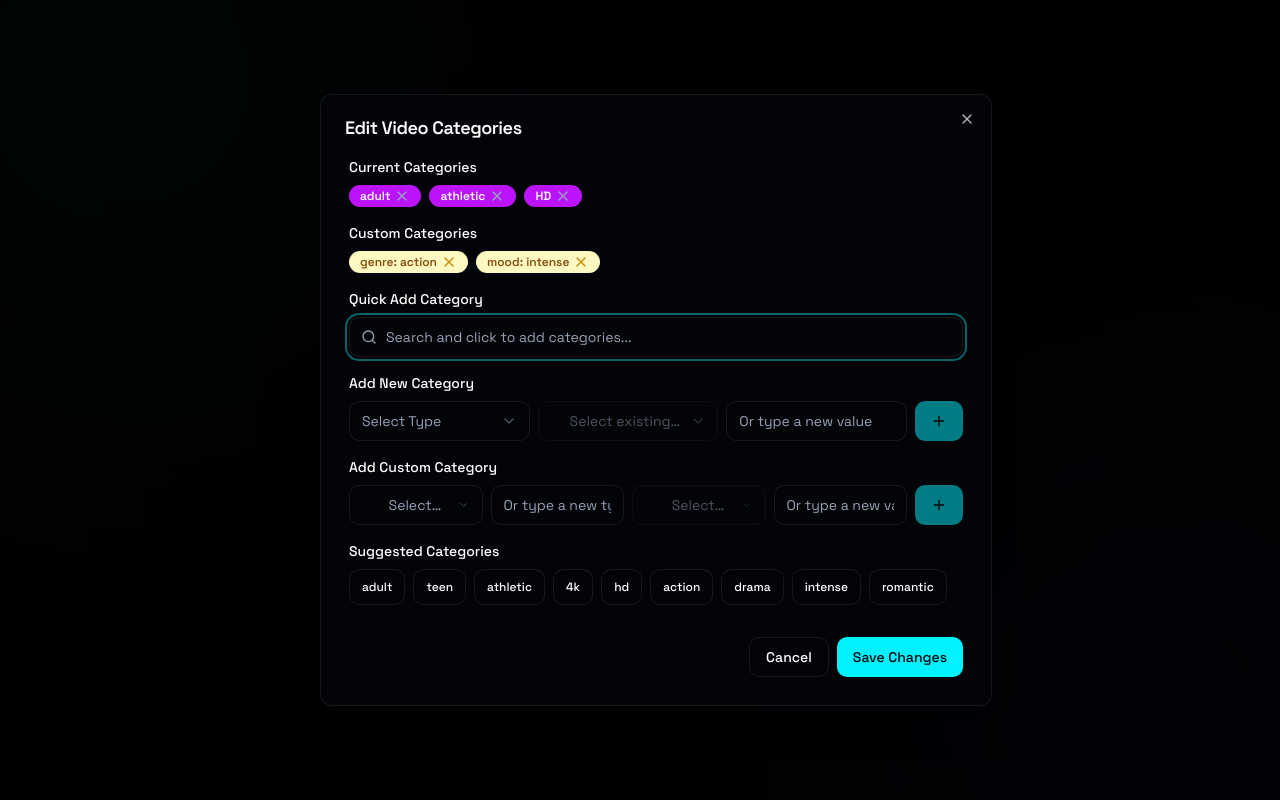
Test case: EditTagsModal › allows adding new custom categories via input
Type "theme" into the field with test id "input-custom-type". click: (557, 505)
box: [490, 485, 624, 525]
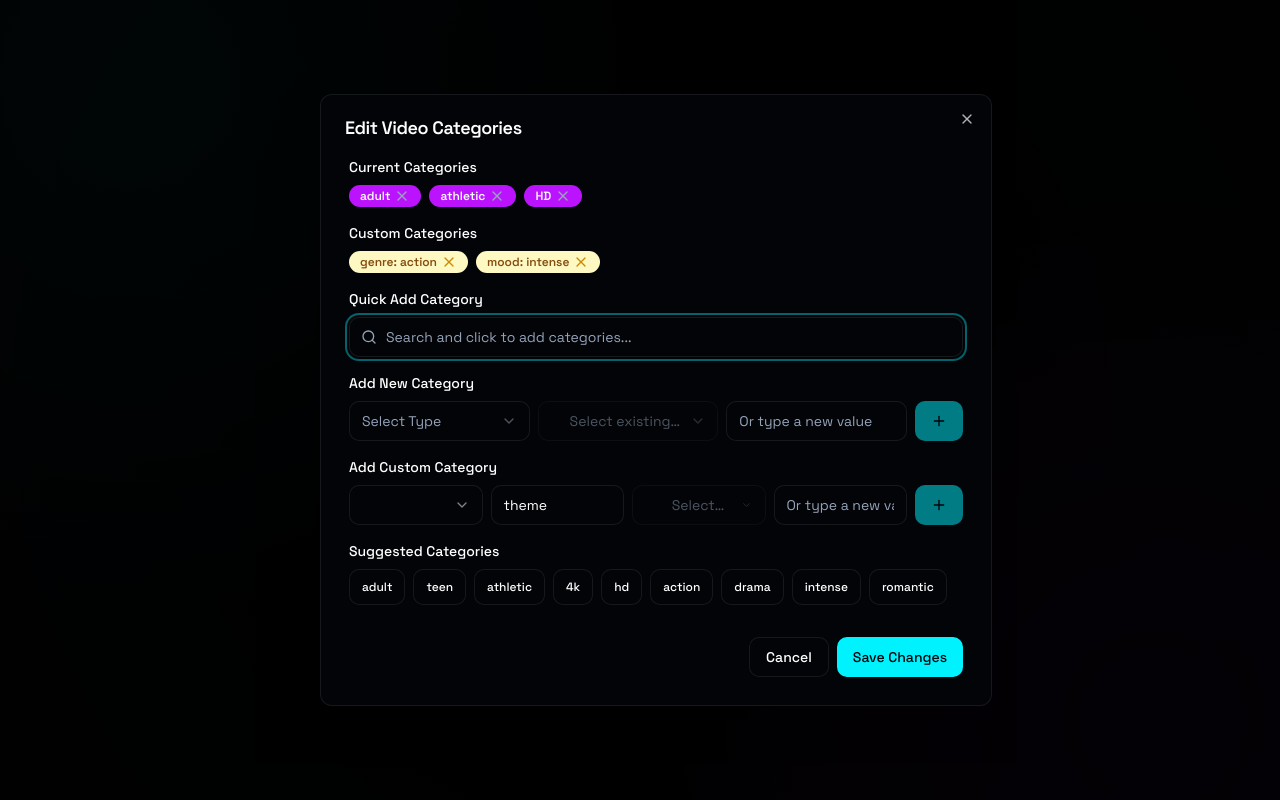
Type "dark" into the field with test id "input-custom-value". click: (840, 505)
box: [774, 485, 907, 525]
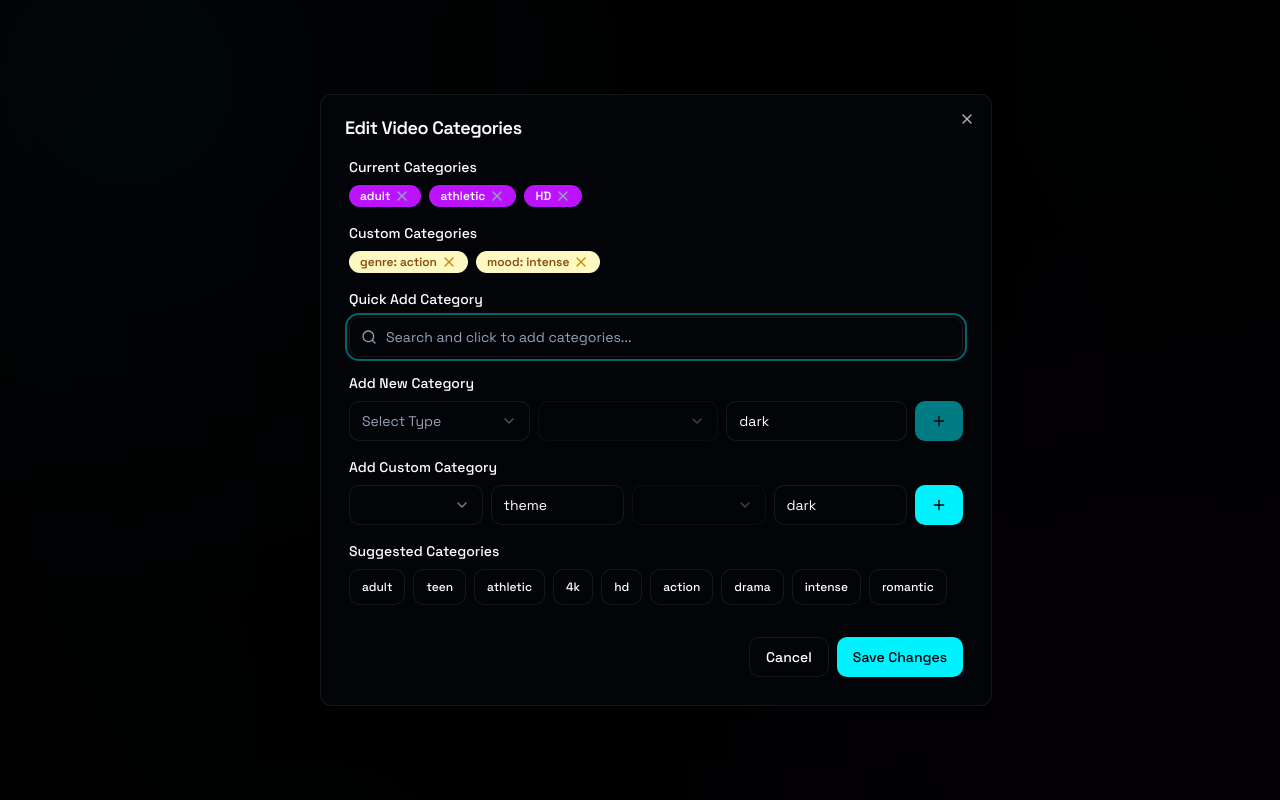
Click the button with test id "button-add-custom-category". click: (939, 505)
box: [915, 485, 963, 525]
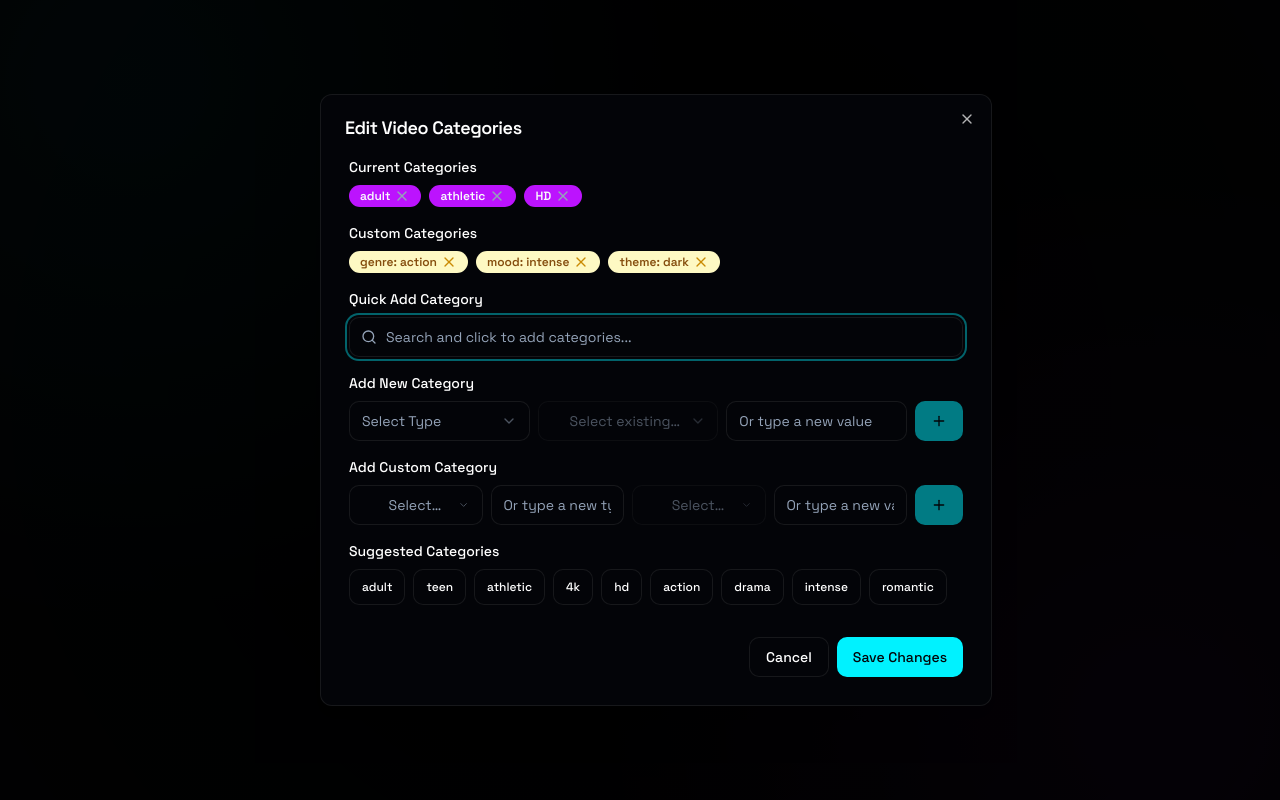
Result: the element with test id "custom-badge-theme-dark" is shown at [608, 251, 720, 273]
